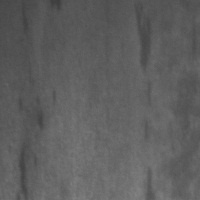inclusion: (10, 86, 53, 198), (166, 66, 199, 200), (132, 1, 161, 75), (140, 77, 161, 141), (142, 162, 160, 199), (17, 1, 31, 33), (140, 116, 154, 147)
